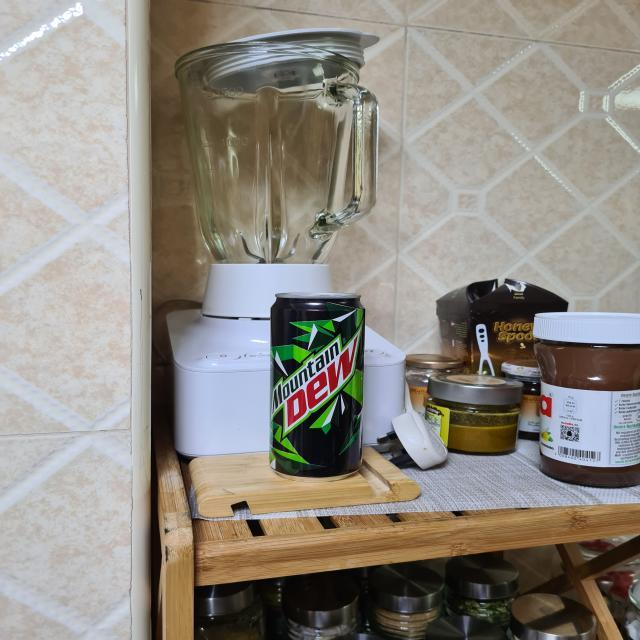can: (258, 282, 374, 479)
